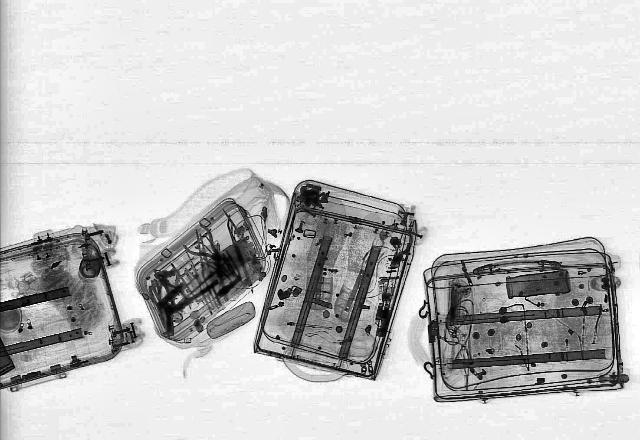Pliers: (170, 224, 240, 270)
